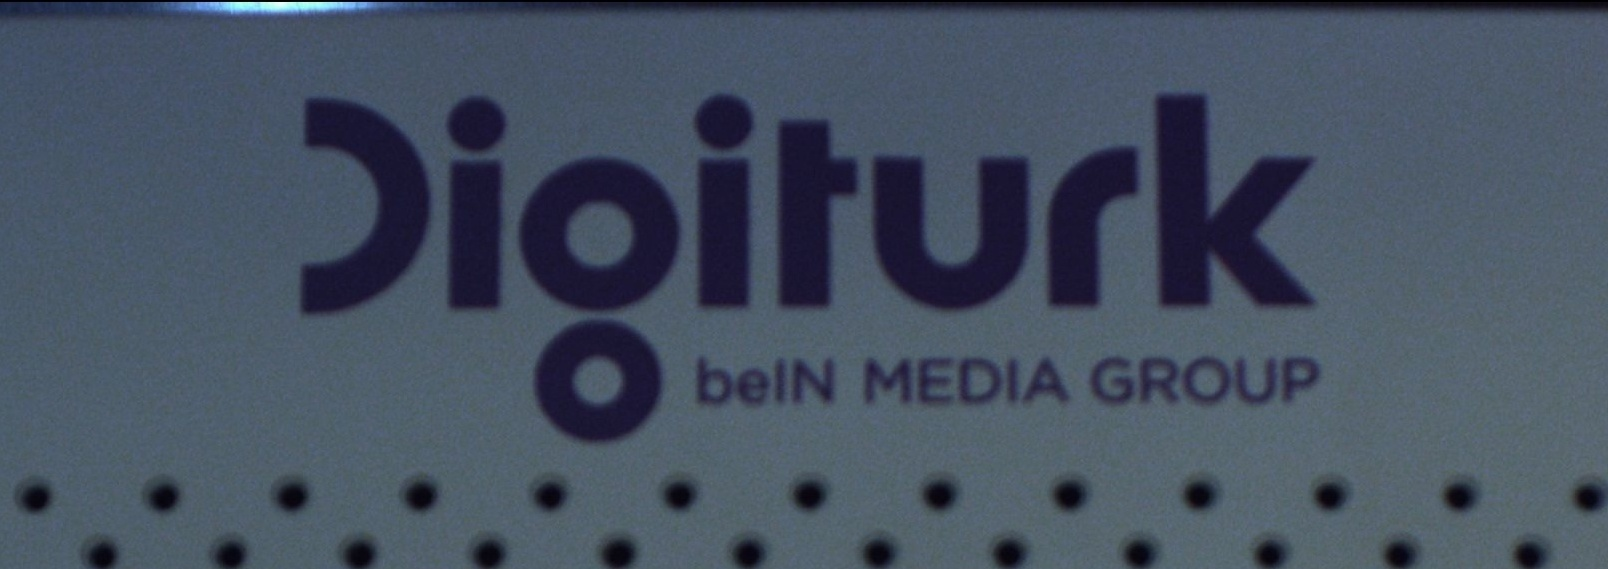BW_H168ADigiturk: (286, 50, 1348, 450)
